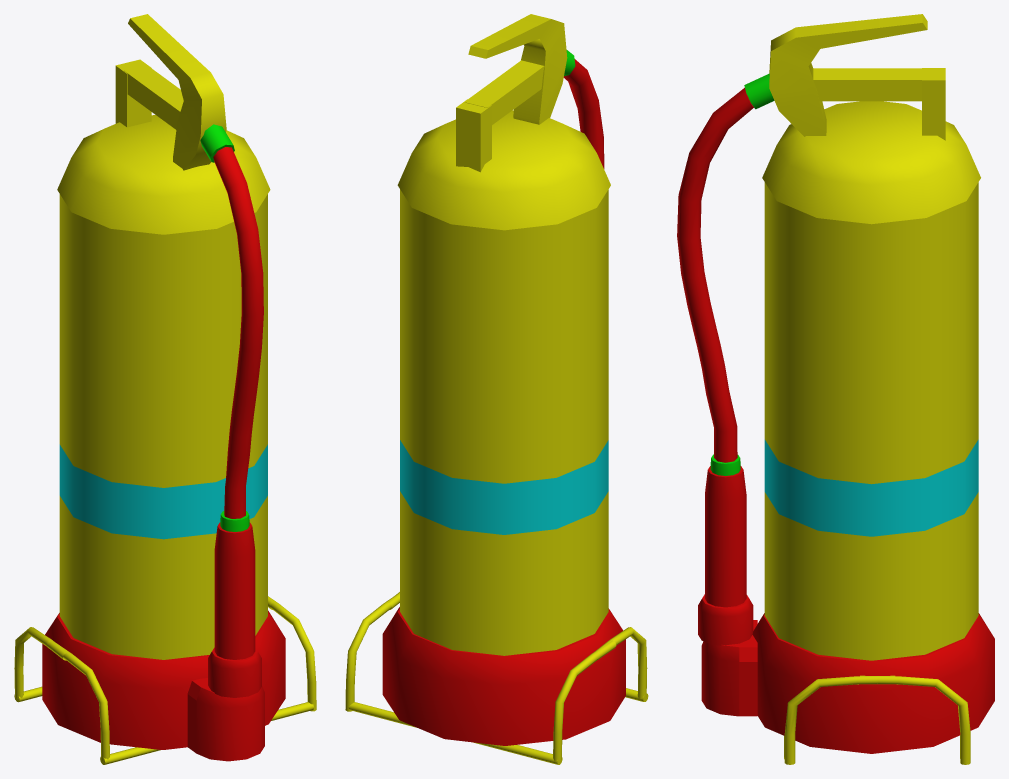
The model's file is SM_Fire.fbx.
The picture shows the model from 3 angles, left to right: view 1: azimuth 30°, elevation 25°; view 2: azimuth 150°, elevation 25°; view 3: azimuth 270°, elevation 25°; orthographic projection. The views are drawn at different scales.
Visible parts, largest first — view 1: fire_fire_extinguisher_lambert2_0; view 2: fire_fire_extinguisher_lambert2_0; view 3: fire_fire_extinguisher_lambert2_0.
Part boxes in pixels (<box>): fire_fire_extinguisher_lambert2_0: <box>14,14,316,764</box>; fire_fire_extinguisher_lambert2_0: <box>345,14,648,764</box>; fire_fire_extinguisher_lambert2_0: <box>677,14,994,764</box>.
Size of the model in its own units: 22.12 by 65.32 by 27.1.
